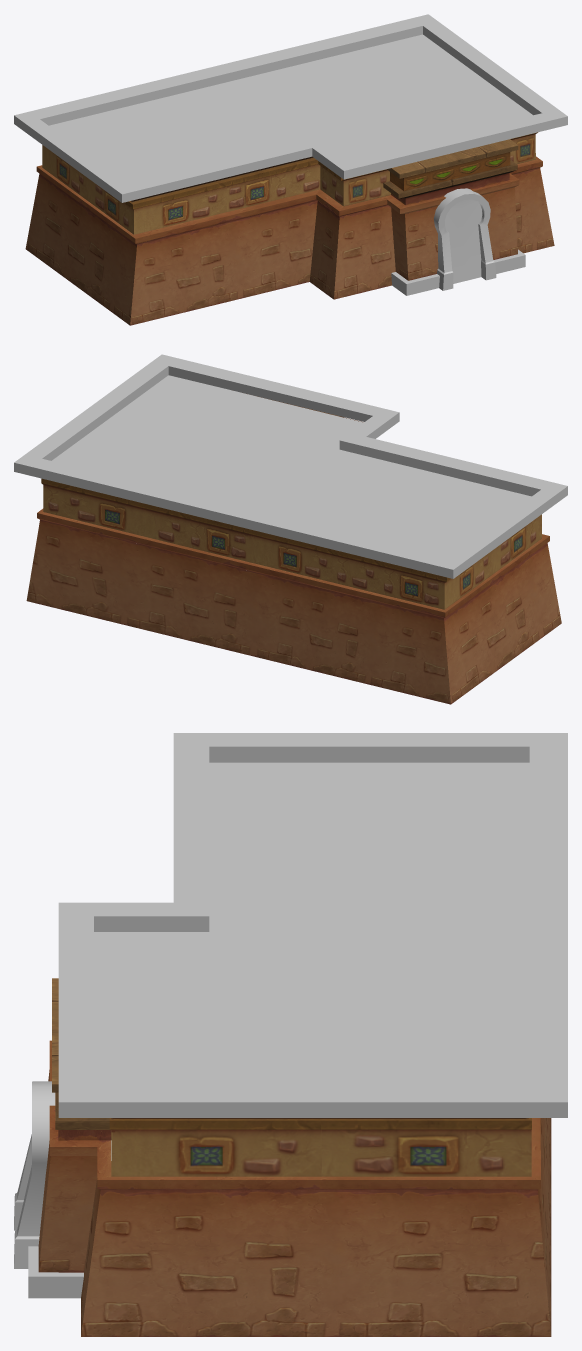
Rendered from SV_BUD_desert_mingju3_0.FBX.
The picture shows the model from 3 angles, top to bottom: view 1: azimuth 30°, elevation 25°; view 2: azimuth 150°, elevation 25°; view 3: azimuth 270°, elevation 25°; orthographic projection. The views are drawn at different scales.
Parts seen in each view (by area): view 1: SV_BUD_desert_mingju3_0_dingmen, SV_BUD_desert_mingju3_0_qiang, SV_BUD_desert_mingju3_0_chuang; view 2: SV_BUD_desert_mingju3_0_dingmen, SV_BUD_desert_mingju3_0_qiang, SV_BUD_desert_mingju3_0_chuang; view 3: SV_BUD_desert_mingju3_0_dingmen, SV_BUD_desert_mingju3_0_qiang, SV_BUD_desert_mingju3_0_chuang.
Part boxes in pixels (box(x1,y1,x2,y2)): SV_BUD_desert_mingju3_0_dingmen: box(14, 14, 567, 295); SV_BUD_desert_mingju3_0_qiang: box(25, 156, 554, 325); SV_BUD_desert_mingju3_0_chuang: box(42, 132, 537, 234); SV_BUD_desert_mingju3_0_dingmen: box(14, 354, 567, 578); SV_BUD_desert_mingju3_0_qiang: box(26, 508, 561, 704); SV_BUD_desert_mingju3_0_chuang: box(41, 394, 541, 609); SV_BUD_desert_mingju3_0_dingmen: box(14, 733, 567, 1298); SV_BUD_desert_mingju3_0_qiang: box(38, 1040, 551, 1336); SV_BUD_desert_mingju3_0_chuang: box(52, 978, 531, 1176).
Bounding box in the file's own units: 12.76 × 3.89 × 8.09.
